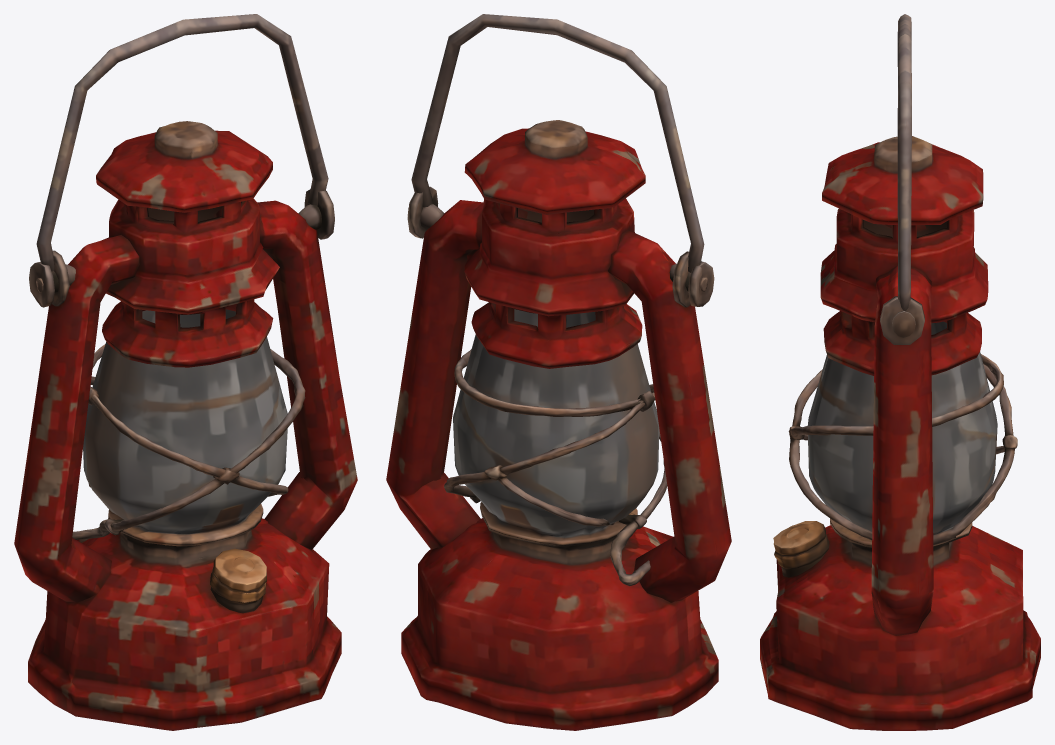
The model's file is lantern.glb.
The picture shows the model from 3 angles, left to right: view 1: azimuth 30°, elevation 25°; view 2: azimuth 150°, elevation 25°; view 3: azimuth 270°, elevation 25°; orthographic projection. The views are drawn at different scales.
Parts seen in each view (by area): view 1: geometry_0; view 2: geometry_0; view 3: geometry_0.
Part boxes in pixels (x1,y1,x2,y2): geometry_0: (14, 14, 357, 730); geometry_0: (386, 14, 731, 730); geometry_0: (760, 14, 1040, 730).
Size of the model in its own units: 0.5156 by 0.9512 by 0.3838.
1 material, 1 textured.
